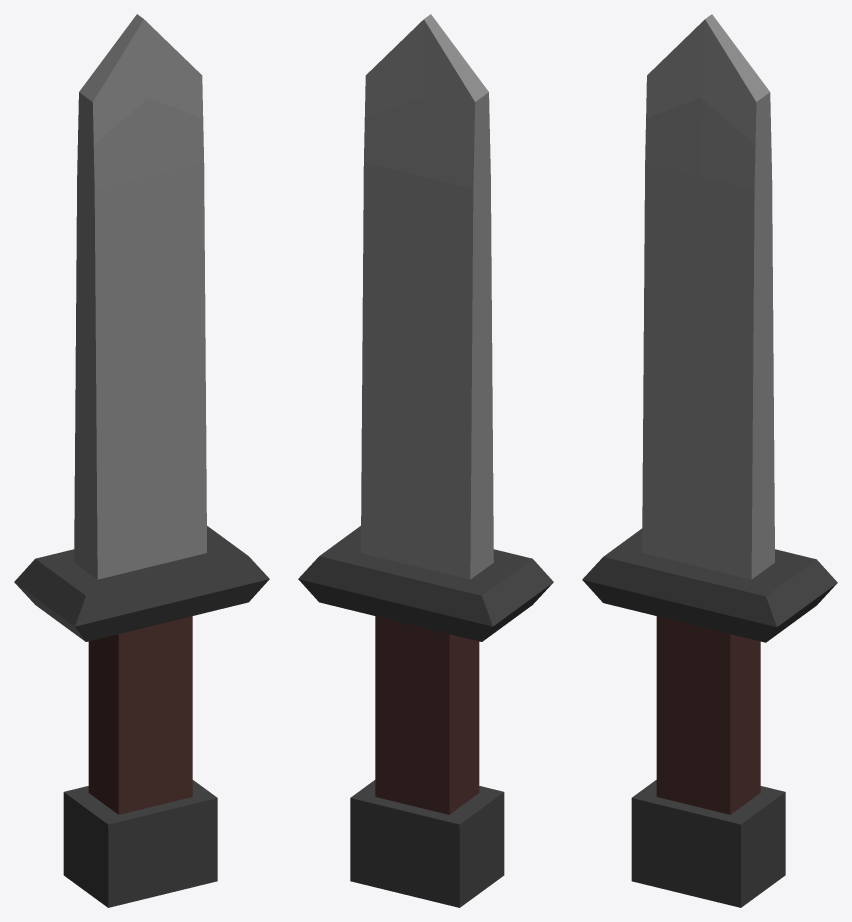
File: Zwaard.fbx
3 renders of one model, left to right at view 1: azimuth 30°, elevation 25°; view 2: azimuth 150°, elevation 25°; view 3: azimuth 330°, elevation 25°, orthographic.
Parts seen in each view (by area): view 1: Cube.004; view 2: Cube.004; view 3: Cube.004.
Part boxes in pixels (bbox=[...]): Cube.004: bbox=[14, 14, 269, 907]; Cube.004: bbox=[298, 14, 553, 907]; Cube.004: bbox=[582, 14, 837, 907].
Size of the model in its own units: 12.28 by 51.84 by 6.64.
